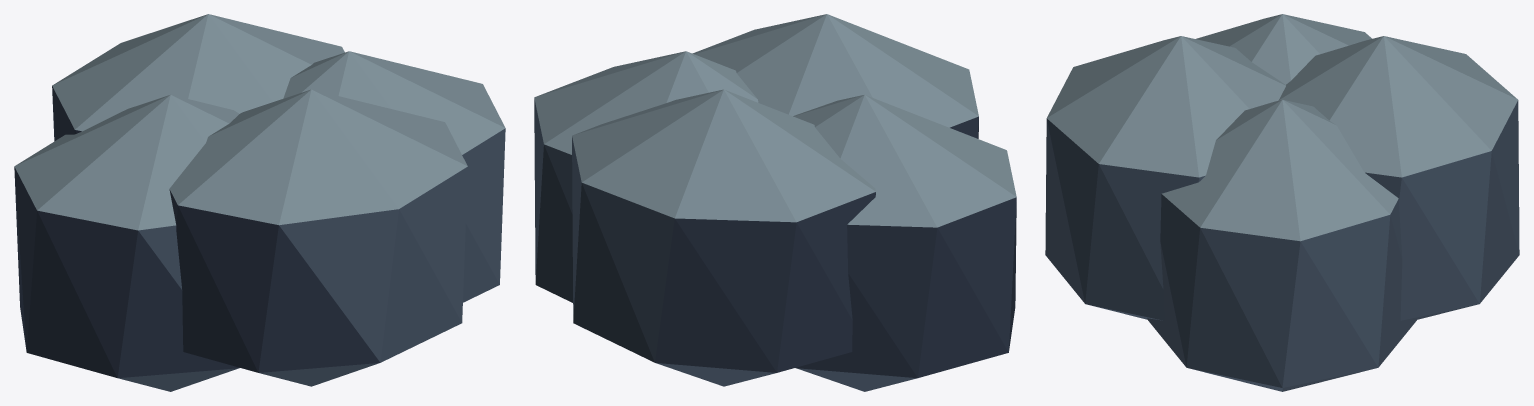
The model's file is TW_VEG_BUSH_ROUND_B_LOD0.glb.
The picture shows the model from 3 angles, left to right: view 1: azimuth 30°, elevation 25°; view 2: azimuth 150°, elevation 25°; view 3: azimuth 270°, elevation 25°; orthographic projection.
Visible parts, largest first — view 1: TW_VEG_BUSH_ROUND_B_LOD0; view 2: TW_VEG_BUSH_ROUND_B_LOD0; view 3: TW_VEG_BUSH_ROUND_B_LOD0.
Part boxes in pixels (<box>): TW_VEG_BUSH_ROUND_B_LOD0: <box>14,14,505,391</box>; TW_VEG_BUSH_ROUND_B_LOD0: <box>534,14,1016,391</box>; TW_VEG_BUSH_ROUND_B_LOD0: <box>1045,14,1519,391</box>.
Bounding box in the file's own units: 1.15 × 0.75 × 1.03.
1 material, 1 textured.
